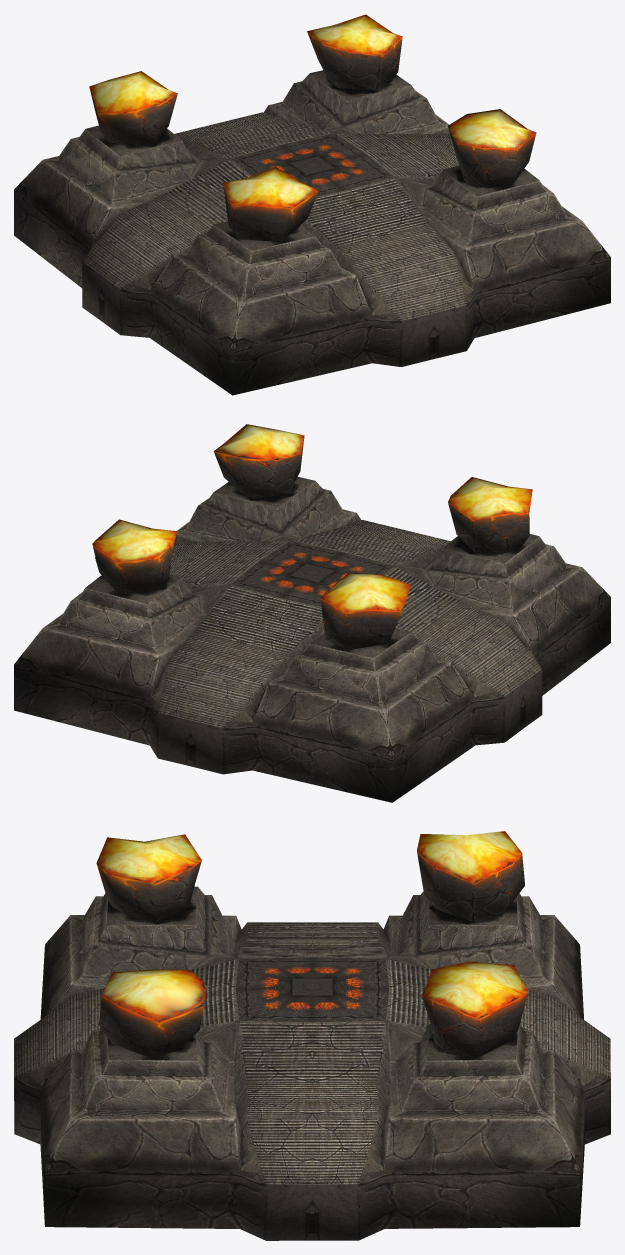
Rendered from Altar-03.FBX.
The picture shows the model from 3 angles, top to bottom: view 1: azimuth 30°, elevation 25°; view 2: azimuth 150°, elevation 25°; view 3: azimuth 270°, elevation 25°; orthographic projection. The views are drawn at different scales.
Parts seen in each view (by area): view 1: Altar-03; view 2: Altar-03; view 3: Altar-03.
Part boxes in pixels (left/top/right/bottom): Altar-03: left=14, top=14, right=610, bottom=395; Altar-03: left=14, top=424, right=610, bottom=802; Altar-03: left=14, top=831, right=610, bottom=1240.
Bounding box in the file's own units: 8.65 × 3.39 × 8.65.
